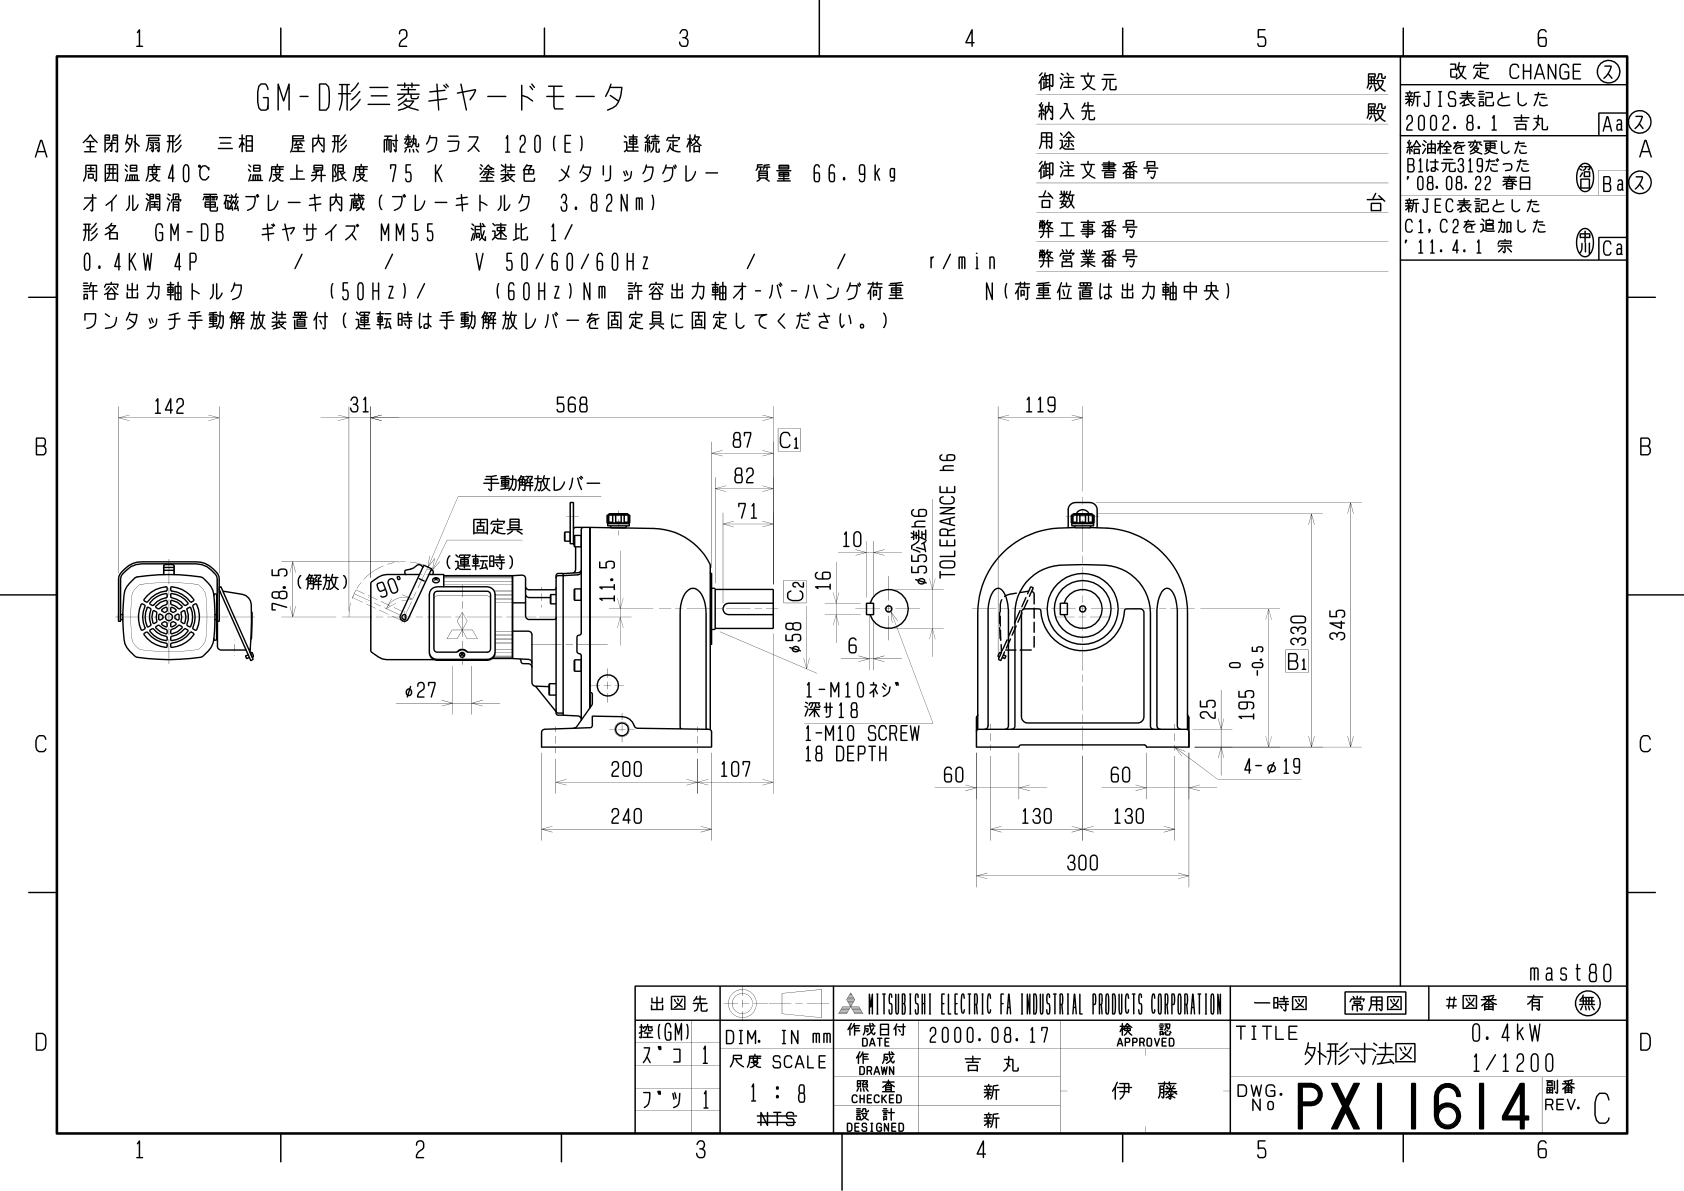GM_D_手動解放ブレーキ＿三相_脚: (1, 1, 1669, 1178)
